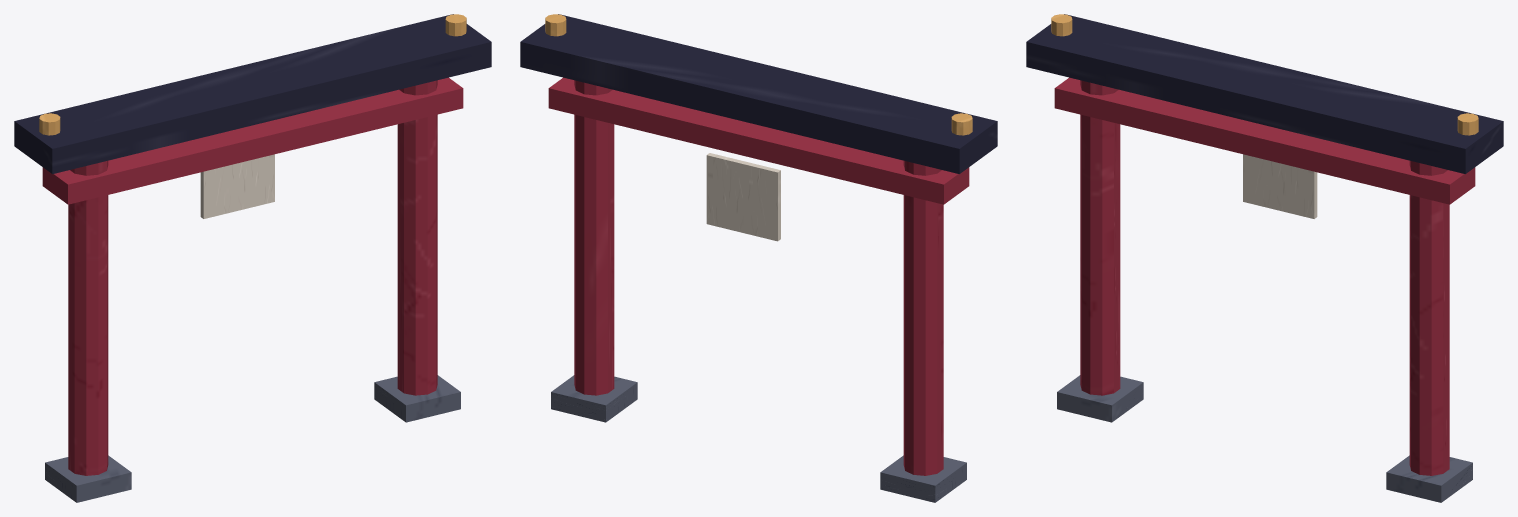
The model's file is v08_dojo_torii_signature_lod0.glb.
The picture shows the model from 3 angles, left to right: view 1: azimuth 30°, elevation 25°; view 2: azimuth 150°, elevation 25°; view 3: azimuth 330°, elevation 25°; orthographic projection.
Parts seen in each view (by area): view 1: dojo_torii_signature_004, dojo_torii_signature_005, dojo_torii_signature_000, dojo_torii_signature_002, dojo_torii_signature_008, dojo_torii_signature_003, dojo_torii_signature_001; view 2: dojo_torii_signature_004, dojo_torii_signature_005, dojo_torii_signature_000, dojo_torii_signature_002, dojo_torii_signature_008, dojo_torii_signature_003, dojo_torii_signature_001; view 3: dojo_torii_signature_004, dojo_torii_signature_005, dojo_torii_signature_002, dojo_torii_signature_000, dojo_torii_signature_008, dojo_torii_signature_001, dojo_torii_signature_003.
Boxes of the visible parts, bbox=[...] form: dojo_torii_signature_004: bbox=[14, 14, 491, 173]; dojo_torii_signature_005: bbox=[42, 77, 463, 204]; dojo_torii_signature_000: bbox=[68, 160, 108, 475]; dojo_torii_signature_002: bbox=[397, 80, 437, 395]; dojo_torii_signature_008: bbox=[200, 154, 274, 218]; dojo_torii_signature_003: bbox=[374, 375, 460, 422]; dojo_torii_signature_001: bbox=[45, 455, 131, 502]; dojo_torii_signature_004: bbox=[520, 14, 997, 173]; dojo_torii_signature_005: bbox=[548, 77, 969, 204]; dojo_torii_signature_000: bbox=[903, 160, 943, 475]; dojo_torii_signature_002: bbox=[574, 80, 614, 395]; dojo_torii_signature_008: bbox=[706, 153, 780, 241]; dojo_torii_signature_003: bbox=[551, 375, 637, 422]; dojo_torii_signature_001: bbox=[880, 455, 966, 502]; dojo_torii_signature_004: bbox=[1026, 14, 1503, 173]; dojo_torii_signature_005: bbox=[1054, 77, 1475, 204]; dojo_torii_signature_002: bbox=[1409, 160, 1449, 475]; dojo_torii_signature_000: bbox=[1080, 80, 1120, 395]; dojo_torii_signature_008: bbox=[1243, 154, 1317, 218]; dojo_torii_signature_001: bbox=[1057, 375, 1143, 422]; dojo_torii_signature_003: bbox=[1386, 455, 1472, 502].
Bounding box in the file's own units: 8 × 6.6 × 1.2.
5 materials, 5 textured.
